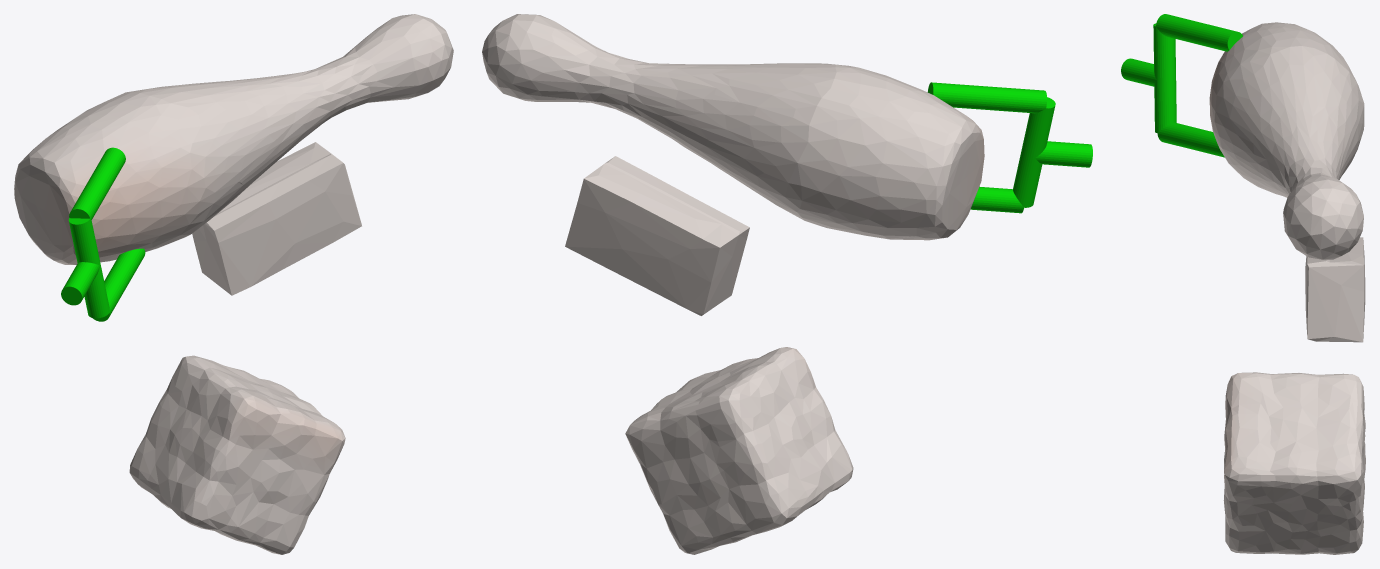
File: round_000_trial_001.obj
The picture shows the model from 3 angles, left to right: view 1: azimuth 30°, elevation 25°; view 2: azimuth 150°, elevation 25°; view 3: azimuth 270°, elevation 25°; orthographic projection. The views are drawn at different scales.
Visible parts, largest first — view 1: geometry_0, geometry_1; view 2: geometry_0, geometry_1; view 3: geometry_0, geometry_1.
Boxes of the visible parts, x1,y1,x2,y2 form: geometry_0: [14, 14, 453, 554]; geometry_1: [61, 147, 145, 321]; geometry_0: [482, 14, 984, 554]; geometry_1: [927, 82, 1092, 213]; geometry_0: [1209, 22, 1365, 554]; geometry_1: [1121, 14, 1242, 157].
Size of the model in its own units: 0.2479 by 0.2285 by 0.1114.
